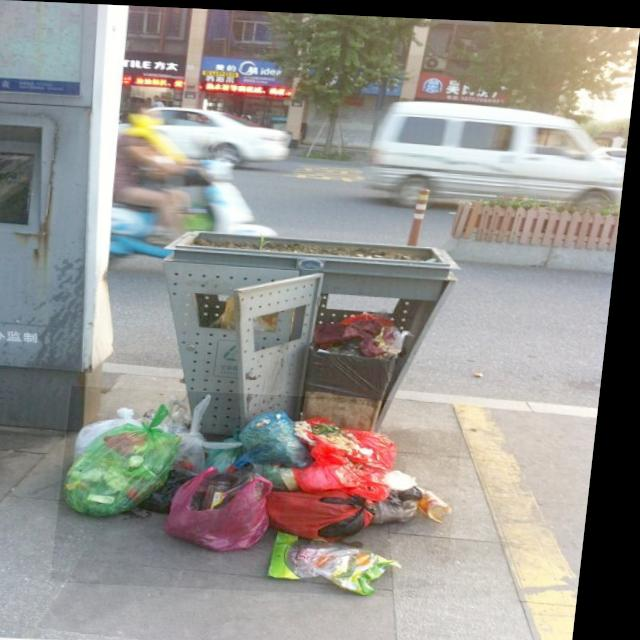garbage: (64, 385, 475, 595)
